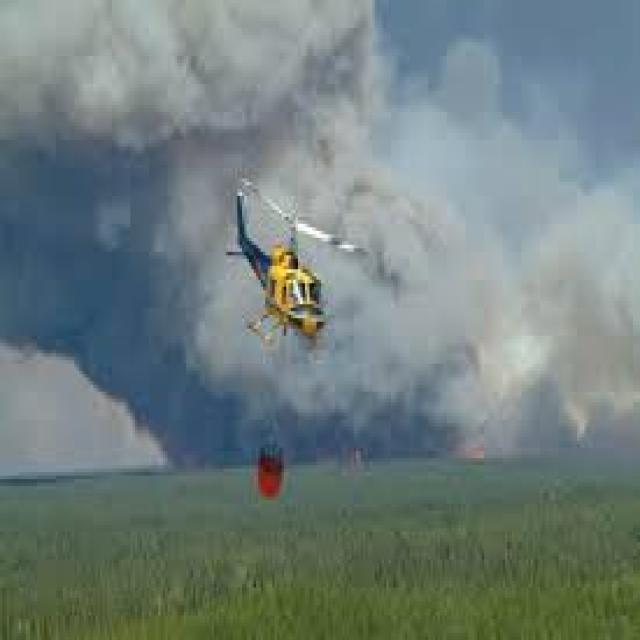Smoke: (365, 34, 640, 423), (38, 0, 221, 412), (0, 0, 449, 165), (322, 153, 394, 432), (147, 162, 237, 382), (263, 356, 334, 416)
